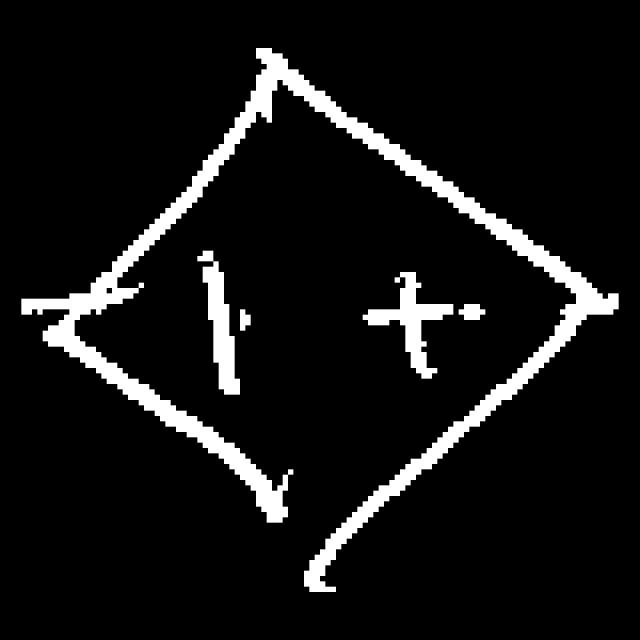dependant_voltage: (48, 67, 603, 574)
